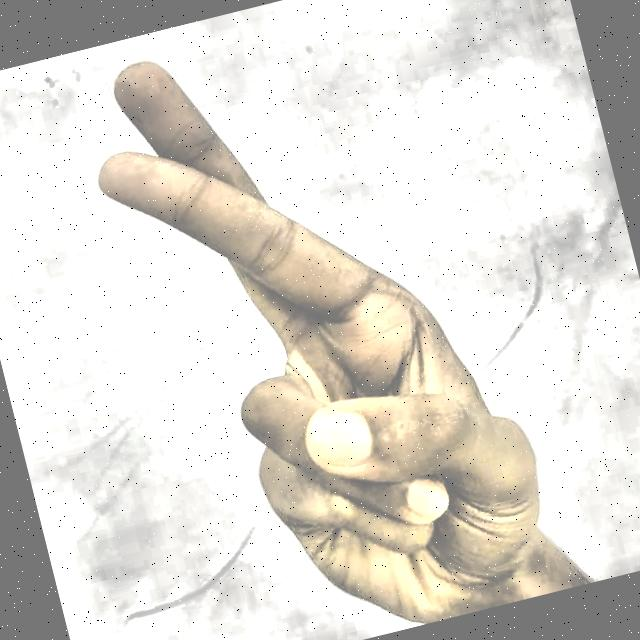Ra: (29, 0, 591, 640)
